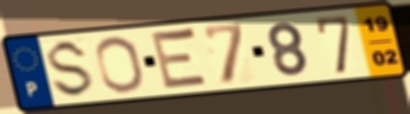7: (202, 21, 248, 86), (313, 14, 352, 75)
8: (266, 20, 311, 78)
E: (149, 26, 212, 93)
O: (93, 34, 148, 95)
S: (46, 37, 98, 100)
